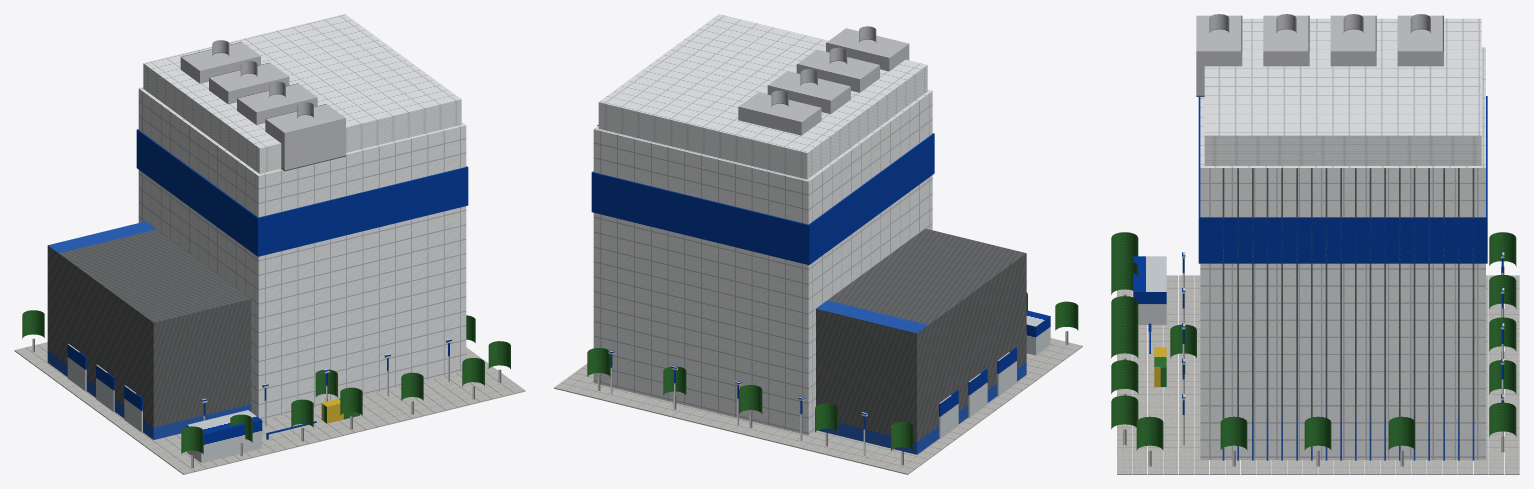
3 renders of one model, left to right at view 1: azimuth 30°, elevation 25°; view 2: azimuth 150°, elevation 25°; view 3: azimuth 270°, elevation 25°, orthographic. The views are drawn at different scales.
Visible parts, largest first — view 1: 28185_B30_Samsung_Biologics_Mega_Plant; view 2: 28185_B30_Samsung_Biologics_Mega_Plant; view 3: 28185_B30_Samsung_Biologics_Mega_Plant.
Part boxes in pixels (x1=…): 28185_B30_Samsung_Biologics_Mega_Plant: x1=14, y1=14, x2=525, y2=474; 28185_B30_Samsung_Biologics_Mega_Plant: x1=554, y1=14, x2=1082, y2=474; 28185_B30_Samsung_Biologics_Mega_Plant: x1=1111, y1=14, x2=1519, y2=474.
Bounding box in the file's own units: 55.95 × 46.5 × 48.6.
Materials: 1 (1 with a texture image).
